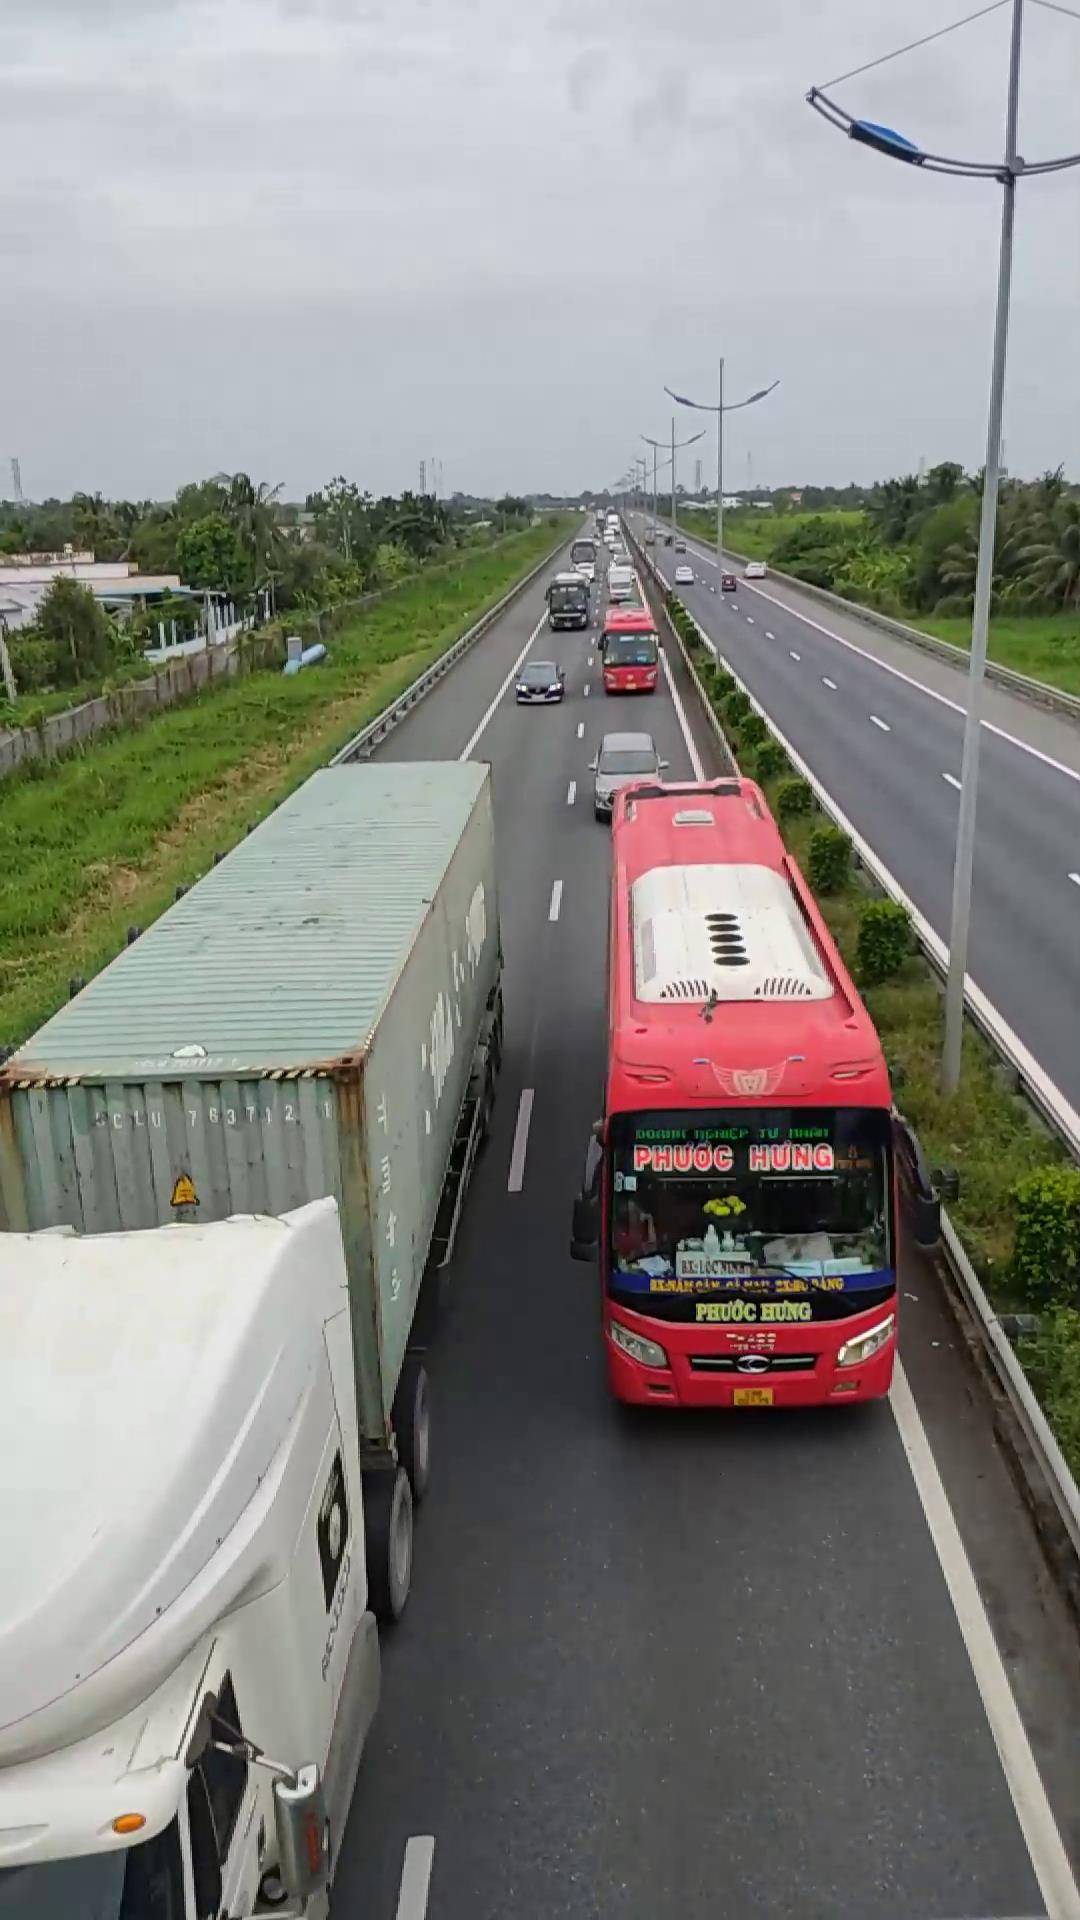bus: (585, 771, 913, 1412)
container: (0, 750, 502, 1915)
